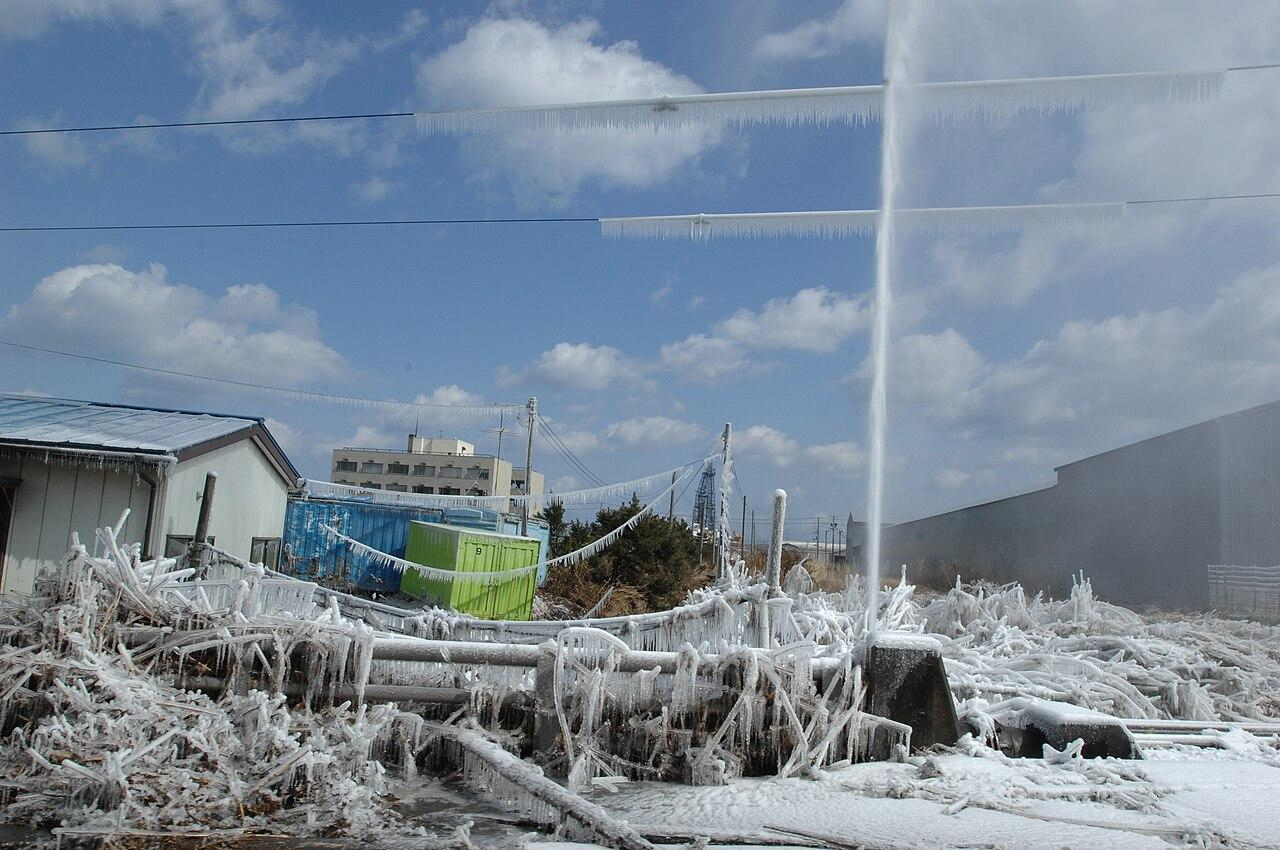pipe burst: (867, 0, 924, 636)
